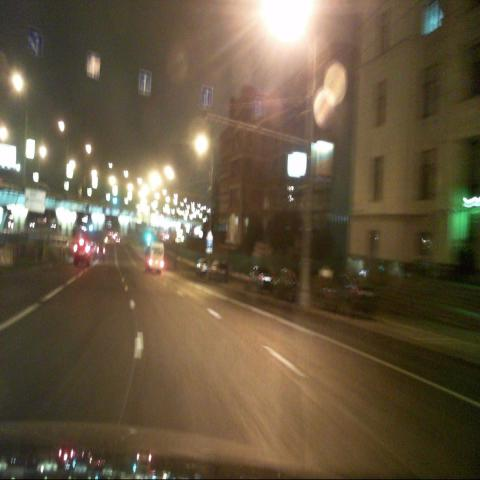5_15_2: (87, 50, 101, 78)
